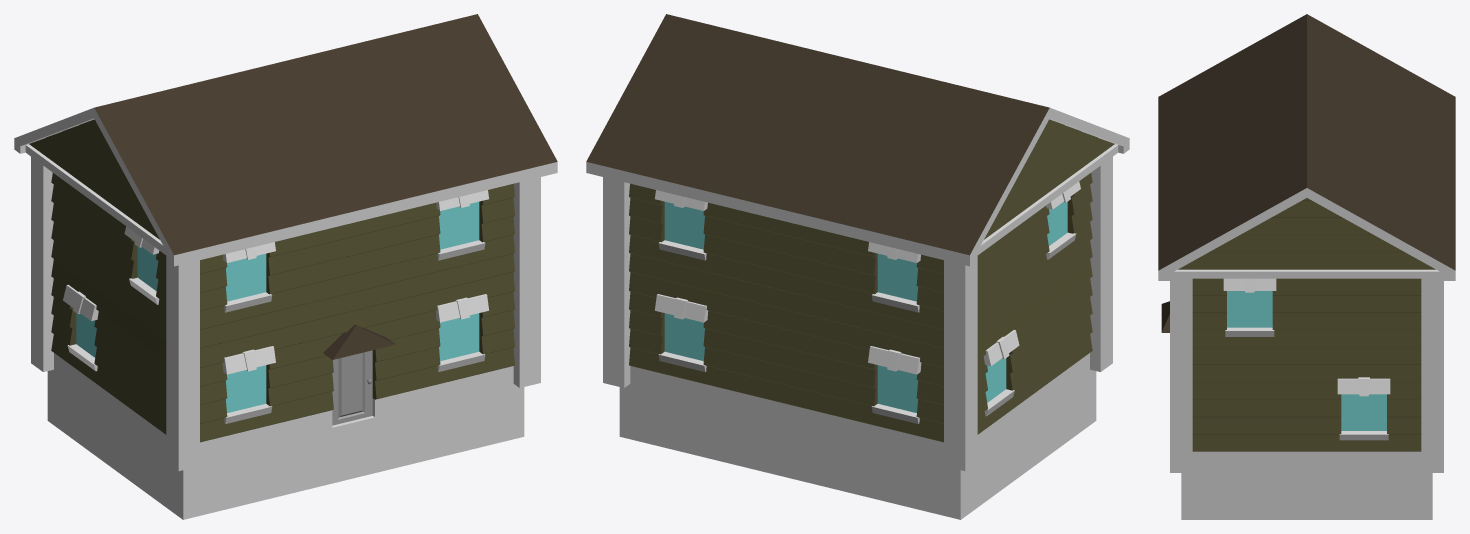
Rendered from SM_house_001.fbx.
3 views of the same model, side by side, from view 1: azimuth 30°, elevation 25°; view 2: azimuth 150°, elevation 25°; view 3: azimuth 270°, elevation 25° (orthographic). The views are drawn at different scales.
Visible parts, largest first — view 1: pCube24; view 2: pCube24; view 3: pCube24.
Boxes of the visible parts, x1,y1,x2,y2 form: pCube24: [14, 14, 557, 519]; pCube24: [586, 14, 1129, 519]; pCube24: [1158, 14, 1455, 519].
Bounding box in the file's own units: 360 × 330 × 260.
